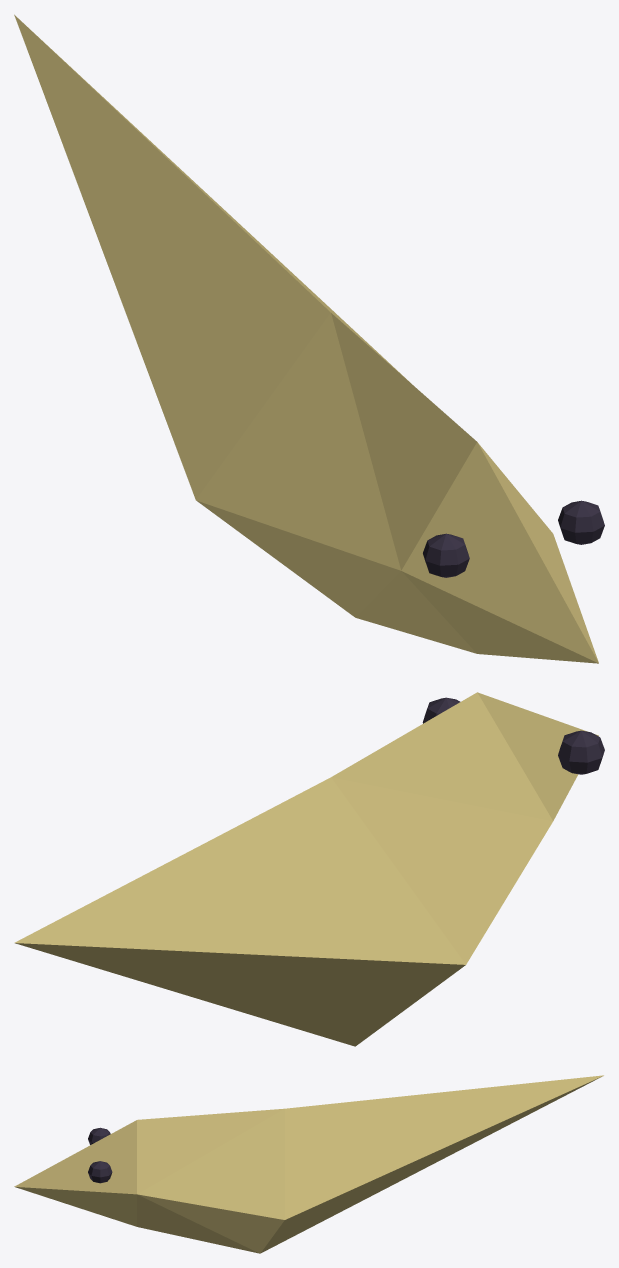
The model's file is SH_Bird_Body_Lemon.fbx.
The picture shows the model from 3 angles, top to bottom: view 1: azimuth 30°, elevation 25°; view 2: azimuth 150°, elevation 25°; view 3: azimuth 270°, elevation 25°; orthographic projection. The views are drawn at different scales.
Visible parts, largest first — view 1: SH_Bird_Body_Lemon; view 2: SH_Bird_Body_Lemon; view 3: SH_Bird_Body_Lemon.
Boxes of the visible parts, <box> form: SH_Bird_Body_Lemon: <box>14,14,604,663</box>; SH_Bird_Body_Lemon: <box>14,692,604,1046</box>; SH_Bird_Body_Lemon: <box>14,1075,603,1253</box>.
Bounding box in the file's own units: 0.064 × 0.08 × 0.24.
